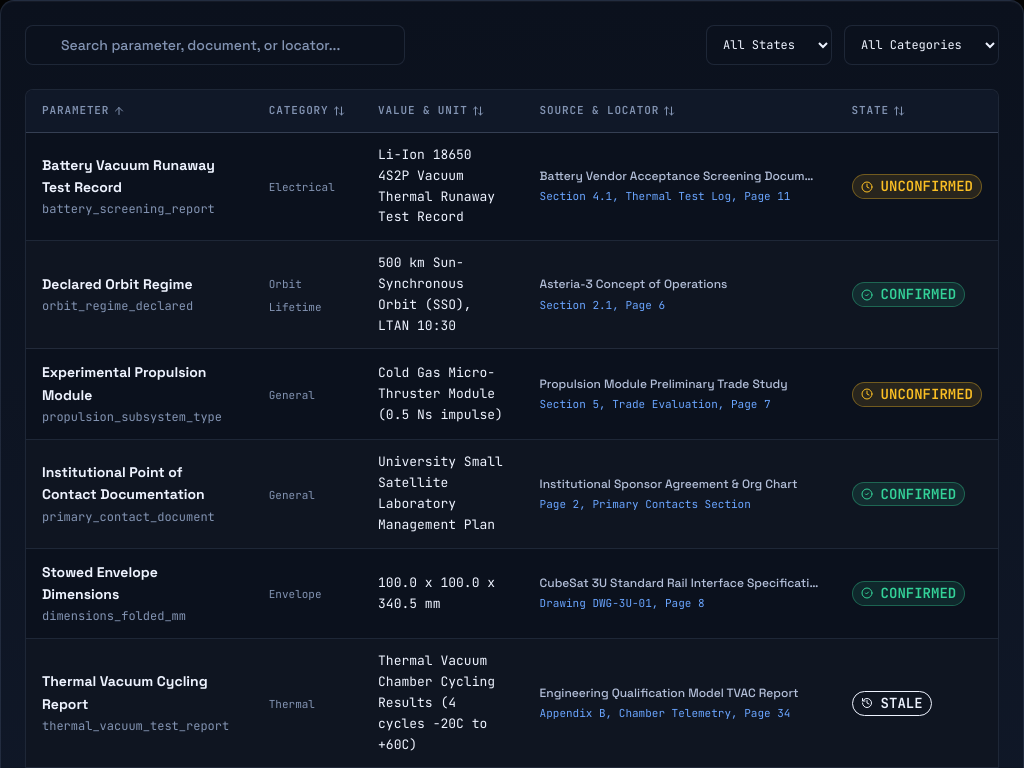
Test case: Slice 5: Workspace Flow, Context & Evidence Register › DataTable Component › renders evidence rows and filters via search input
Expected: the text "Stowed Envelope Dimensions" is shown, x1=42 y1=562 x2=158 y2=603
Search for thermal
Type "thermal" into the search field with placeholder "Search parameter, document, or locator..." at (226, 45), box x1=61 y1=34 x2=392 y2=56
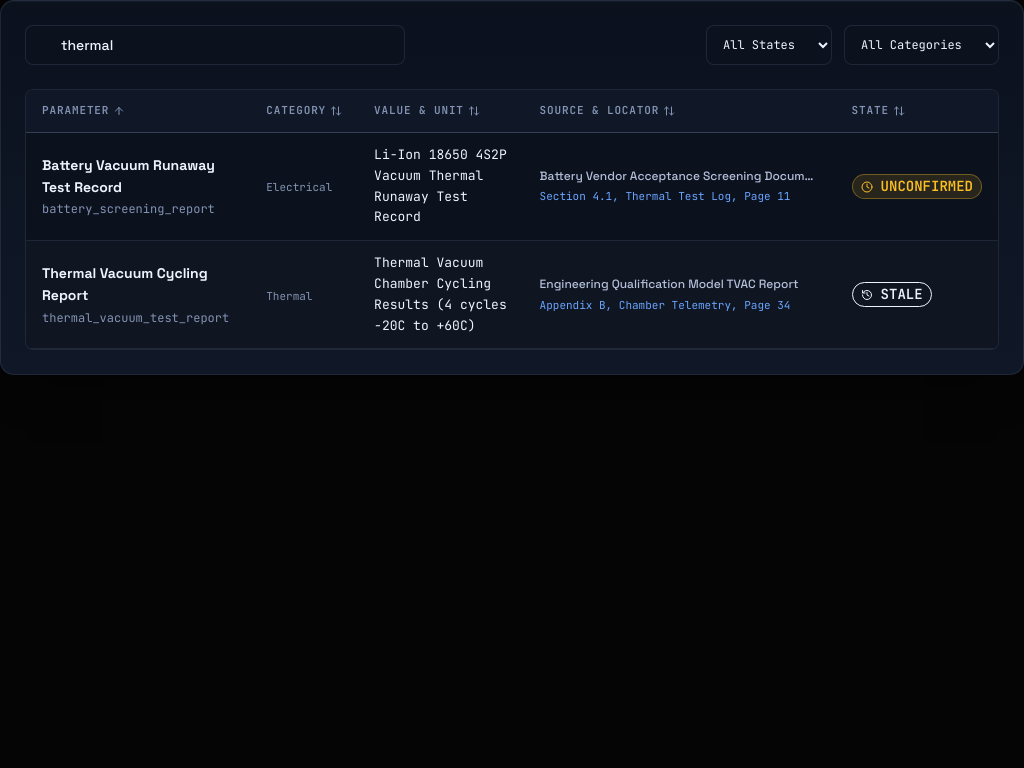
Expected: the text "Thermal Vacuum Cycling Report" is shown, x1=42 y1=262 x2=234 y2=307
Now the text "Stowed Envelope Dimensions" is gone
